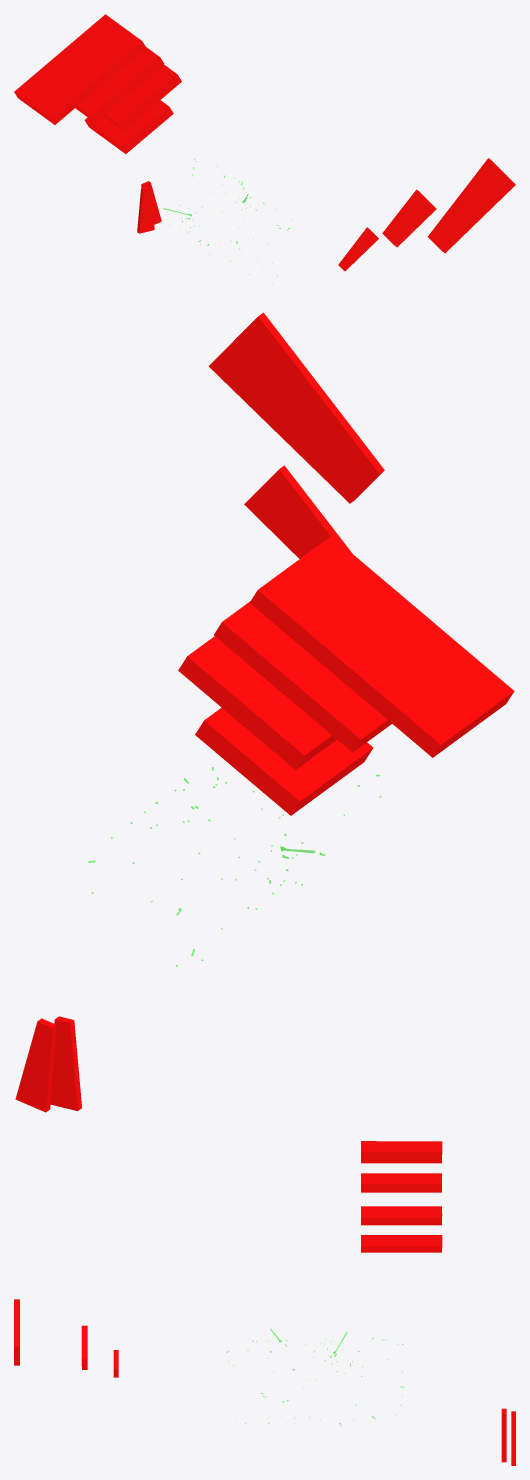
The picture shows the model from 3 angles, top to bottom: view 1: azimuth 30°, elevation 25°; view 2: azimuth 150°, elevation 25°; view 3: azimuth 270°, elevation 25°; orthographic projection. The views are drawn at different scales.
Visible parts, largest first — view 1: MuonChambers_V1; view 2: MuonChambers_V1; view 3: MuonChambers_V1.
Boxes of the visible parts, bbox=[...] form: MuonChambers_V1: bbox=[14, 14, 515, 271]; MuonChambers_V1: bbox=[15, 312, 514, 1112]; MuonChambers_V1: bbox=[14, 1141, 515, 1465].
Size of what is drawn, in the model's own units: 12.12 by 9.58 by 15.53.
